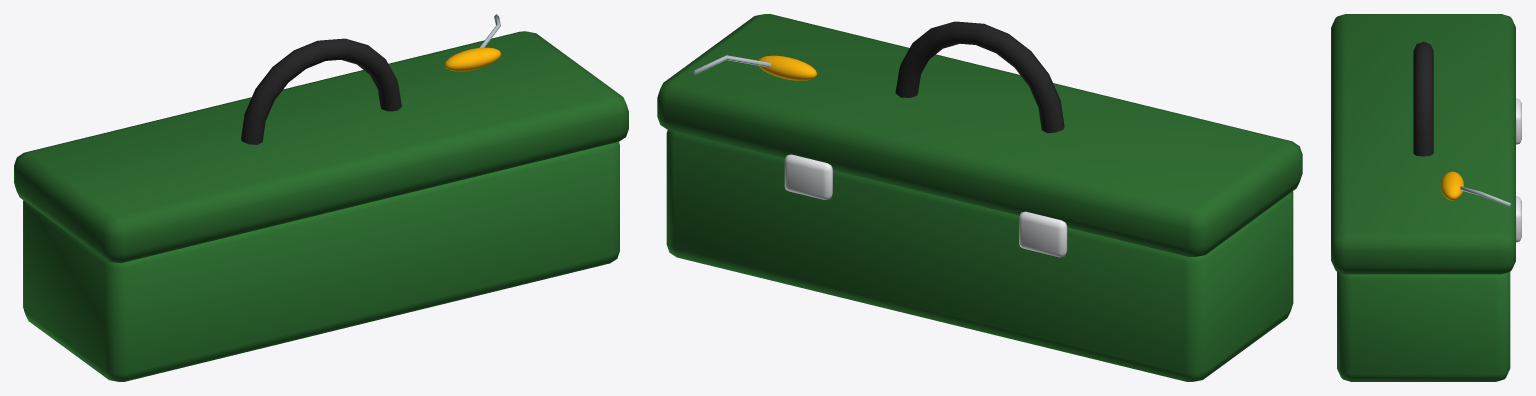
Rendered from tackle_box.fbx.
The picture shows the model from 3 angles, left to right: view 1: azimuth 30°, elevation 25°; view 2: azimuth 150°, elevation 25°; view 3: azimuth 270°, elevation 25°; orthographic projection. The views are drawn at different scales.
Visible parts, largest first — view 1: Tackle Box; view 2: Tackle Box; view 3: Tackle Box.
Boxes of the visible parts, x1,y1,x2,y2 form: Tackle Box: [14, 14, 628, 381]; Tackle Box: [657, 14, 1302, 381]; Tackle Box: [1331, 14, 1521, 381].
Bounding box in the file's own units: 1.88 × 0.865 × 0.66.
